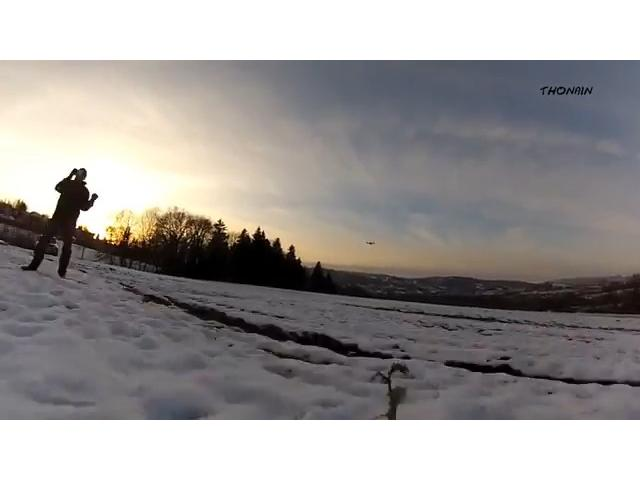Anti-Drone: (364, 236, 382, 250)
